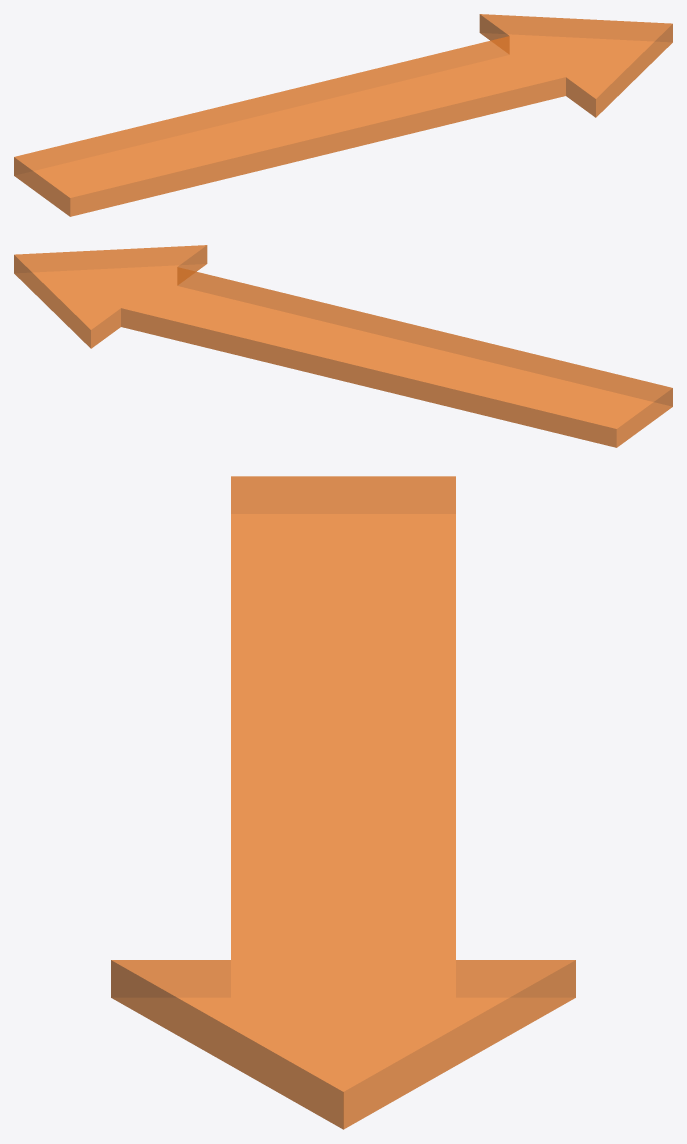
3 renders of one model, top to bottom at view 1: azimuth 30°, elevation 25°; view 2: azimuth 150°, elevation 25°; view 3: azimuth 270°, elevation 25°, orthographic. The views are drawn at different scales.
Parts seen in each view (by area): view 1: go; view 2: go; view 3: go.
Boxes of the visible parts, x1,y1,x2,y2 form: go: [14, 14, 672, 216]; go: [14, 245, 672, 447]; go: [111, 476, 575, 1129].
Bounding box in the file's own units: 1400 × 40 × 447.
